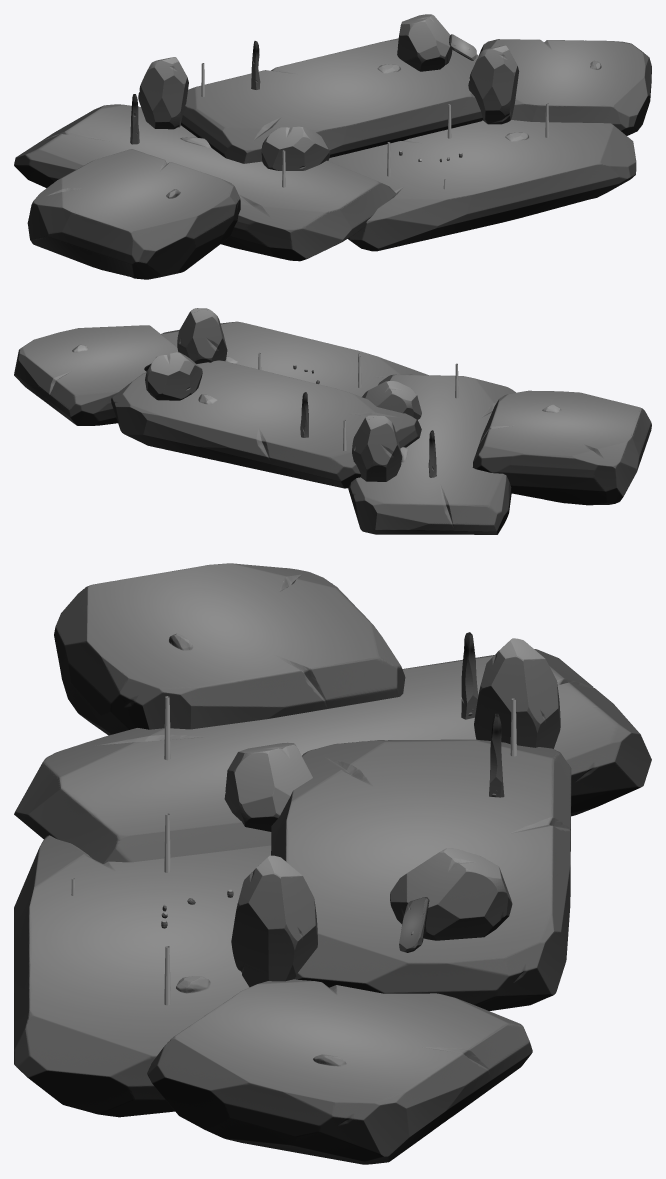
File: terrain1-fbx.fbx
The picture shows the model from 3 angles, top to bottom: view 1: azimuth 30°, elevation 25°; view 2: azimuth 150°, elevation 25°; view 3: azimuth 270°, elevation 25°; orthographic projection. The views are drawn at different scales.
Parts seen in each view (by area): view 1: polySurface21, polySurface13, polySurface15, polySurface12, polySurface14, polySurface9, polySurface3, polySurface23, polySurface10, polySurface20, polySurface18; view 2: polySurface13, polySurface15, polySurface12, polySurface14, polySurface21, polySurface3, polySurface23, polySurface9, polySurface10, polySurface17; view 3: polySurface13, polySurface14, polySurface21, polySurface12, polySurface15, polySurface9, polySurface23, polySurface3, polySurface10, polySurface20, polySurface18, polySurface17.
Part boxes in pixels (x1,y1,x2,y2): polySurface21: [328, 120, 636, 251]; polySurface13: [181, 38, 483, 163]; polySurface15: [14, 104, 395, 261]; polySurface12: [27, 149, 240, 279]; polySurface14: [479, 39, 651, 135]; polySurface9: [468, 45, 519, 124]; polySurface3: [138, 57, 188, 129]; polySurface23: [397, 14, 452, 71]; polySurface10: [261, 126, 330, 170]; polySurface20: [449, 34, 476, 60]; polySurface18: [130, 94, 139, 144]; polySurface13: [111, 360, 421, 488]; polySurface15: [348, 374, 515, 534]; polySurface12: [472, 390, 651, 505]; polySurface14: [14, 325, 178, 425]; polySurface21: [161, 321, 428, 396]; polySurface3: [352, 414, 402, 481]; polySurface23: [145, 352, 202, 400]; polySurface9: [177, 308, 227, 363]; polySurface10: [362, 380, 421, 419]; polySurface17: [300, 392, 308, 437]; polySurface13: [271, 739, 571, 1010]; polySurface14: [147, 979, 532, 1164]; polySurface21: [14, 835, 271, 1117]; polySurface12: [54, 563, 405, 735]; polySurface15: [14, 649, 651, 863]; polySurface9: [231, 855, 317, 987]; polySurface23: [390, 848, 512, 940]; polySurface3: [474, 638, 560, 748]; polySurface10: [224, 742, 312, 831]; polySurface20: [399, 897, 429, 952]; polySurface18: [461, 632, 478, 719]; polySurface17: [489, 713, 504, 797].
Bounding box in the file's own units: 2869 × 492 × 1461.
